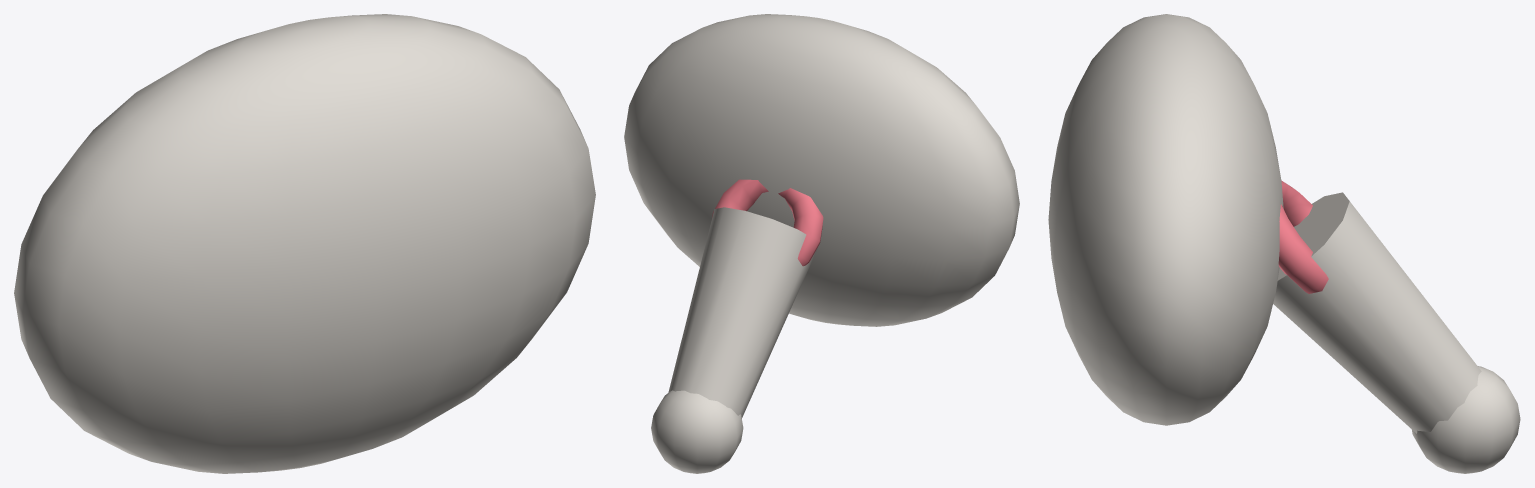
The model's file is ponytail.glb.
3 views of the same model, side by side, from view 1: azimuth 30°, elevation 25°; view 2: azimuth 150°, elevation 25°; view 3: azimuth 270°, elevation 25° (orthographic). The views are drawn at different scales.
Parts seen in each view (by area): view 1: Ponytail; view 2: Ponytail; view 3: Ponytail.
Boxes of the visible parts, x1,y1,x2,y2 form: Ponytail: (14,14,595,473); Ponytail: (624,14,1019,473); Ponytail: (1048,14,1520,473).
Size of the model in its own units: 0.72 by 0.633 by 0.64.
